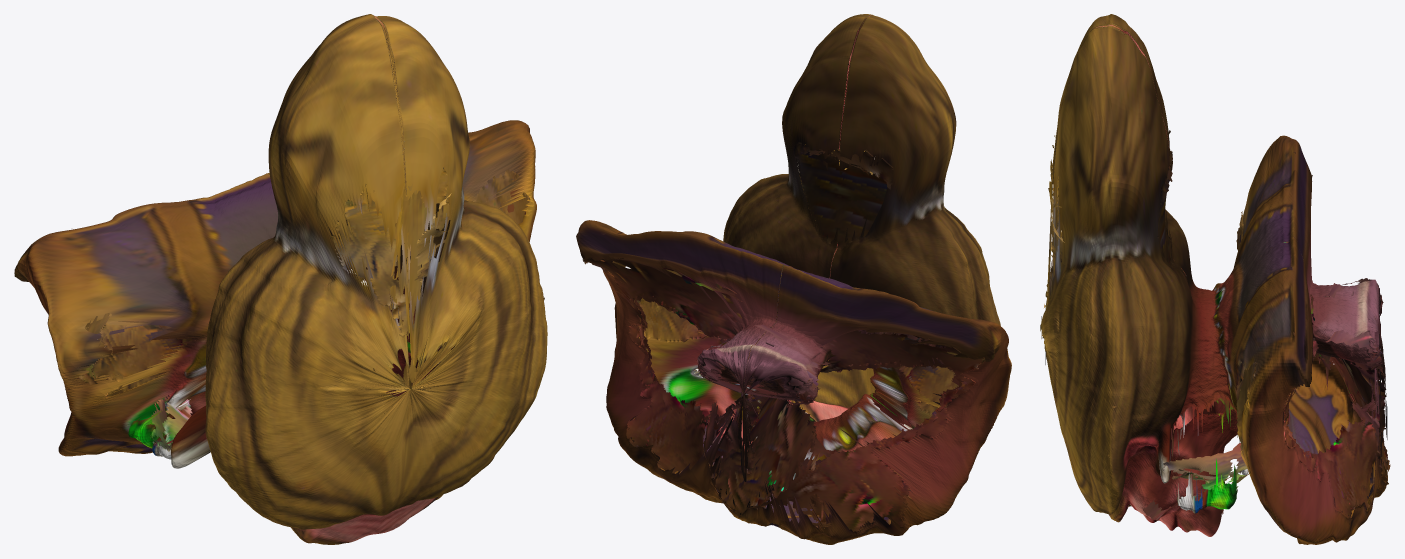
The model's file is mesh_inpaint.glb.
3 views of the same model, side by side, from view 1: azimuth 30°, elevation 25°; view 2: azimuth 150°, elevation 25°; view 3: azimuth 270°, elevation 25° (orthographic). The views are drawn at different scales.
Parts seen in each view (by area): view 1: ipn, fill; view 2: ipn, fill; view 3: ipn, fill.
Part boxes in pixels (left/top/right/bottom): ipn: left=14, top=14, right=547, bottom=544; fill: left=67, top=168, right=546, bottom=451; ipn: left=576, top=14, right=1011, bottom=544; fill: left=582, top=142, right=985, bottom=532; ipn: left=1040, top=14, right=1387, bottom=544; fill: left=1042, top=130, right=1390, bottom=520.
Bounding box in the file's own units: 1.48 × 1.53 × 0.9536.
2 materials, 1 textured.
